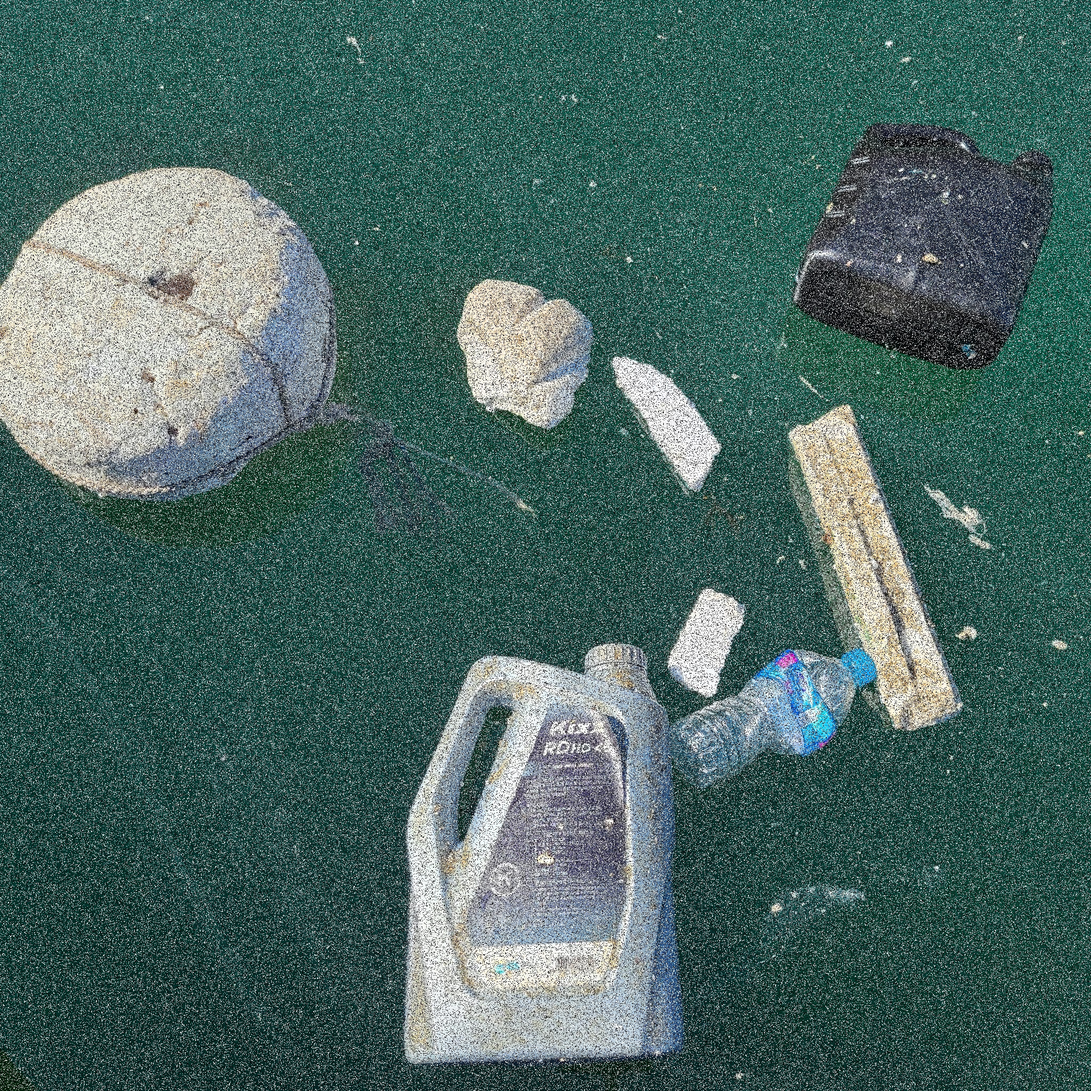sampah_terapung: (404, 644, 687, 1068), (1, 168, 338, 502), (793, 124, 1055, 370), (314, 403, 535, 555), (669, 649, 877, 790), (456, 280, 595, 430), (612, 356, 723, 493), (667, 588, 747, 698)
